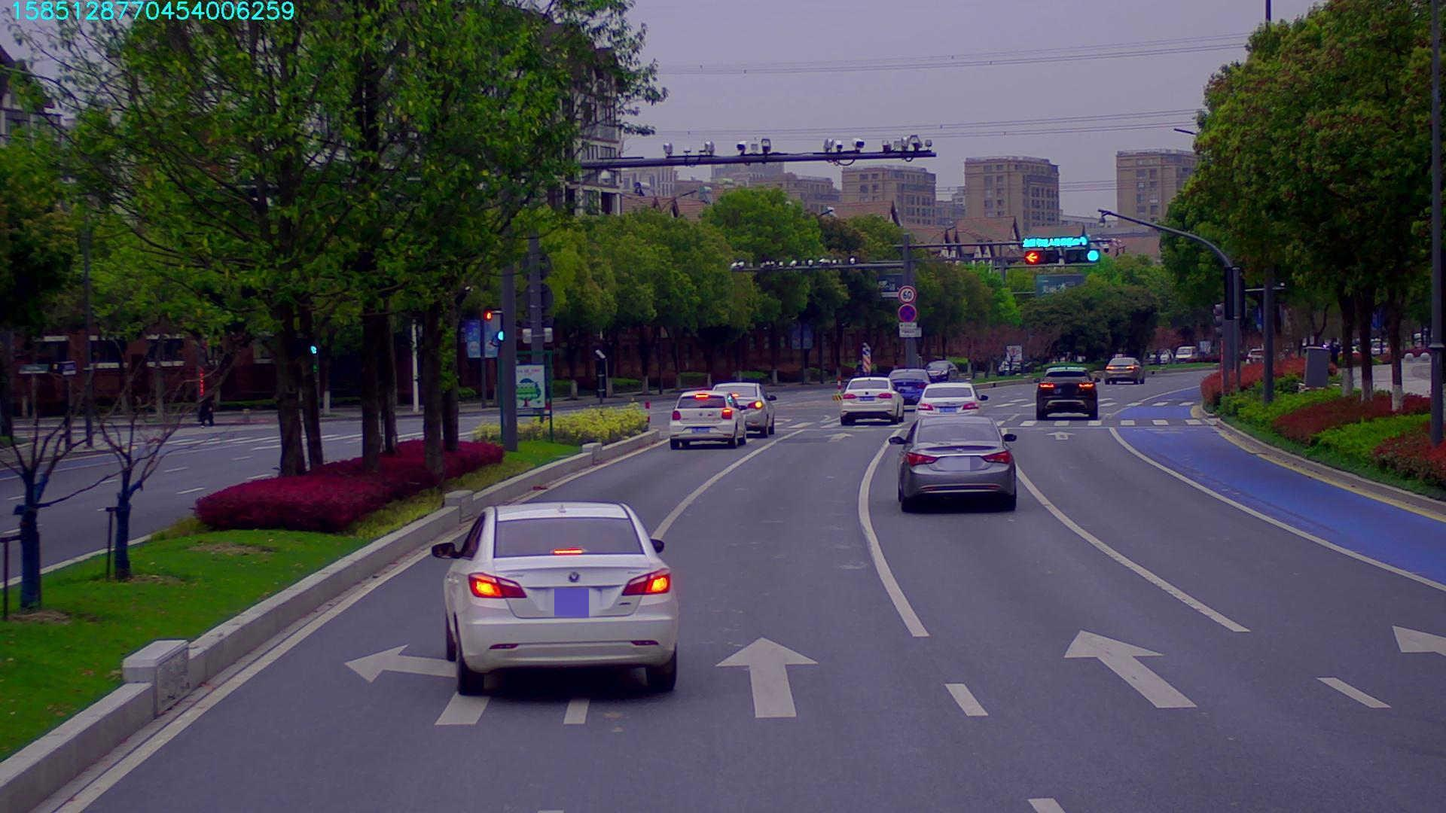green: (1063, 248, 1099, 262)
red: (1023, 252, 1057, 264)
wait_on: (1021, 235, 1091, 246)
